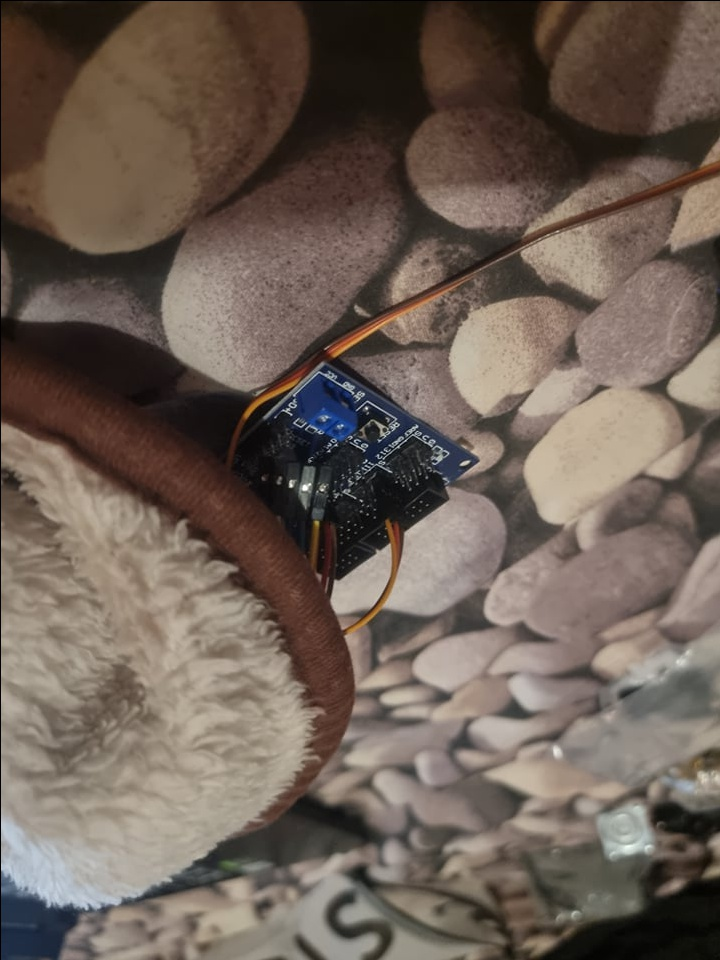5V EXPANSION: (221, 354, 481, 581)
